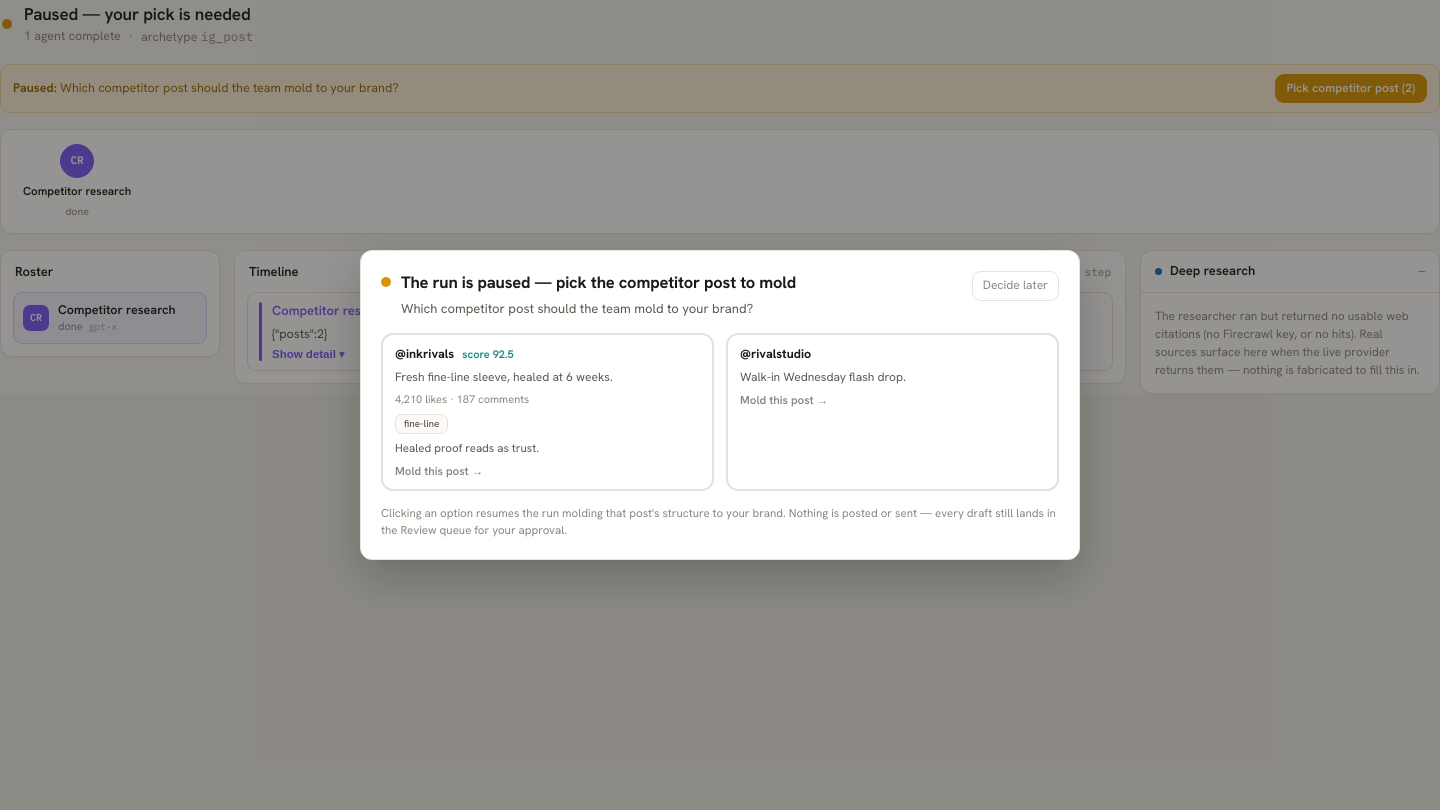
Scenario: AgencyCanvas — awaiting_selection COMPETITOR pause (competitor research) › "Decide later" hides the dialog but keeps the honest paused banner
This screenshot has width=1440, height=810.
What coordinates should you click on to do the following:
click the button "Decide later"
I would click on:
 (1015, 286)
Its box is [972,271,1059,301].
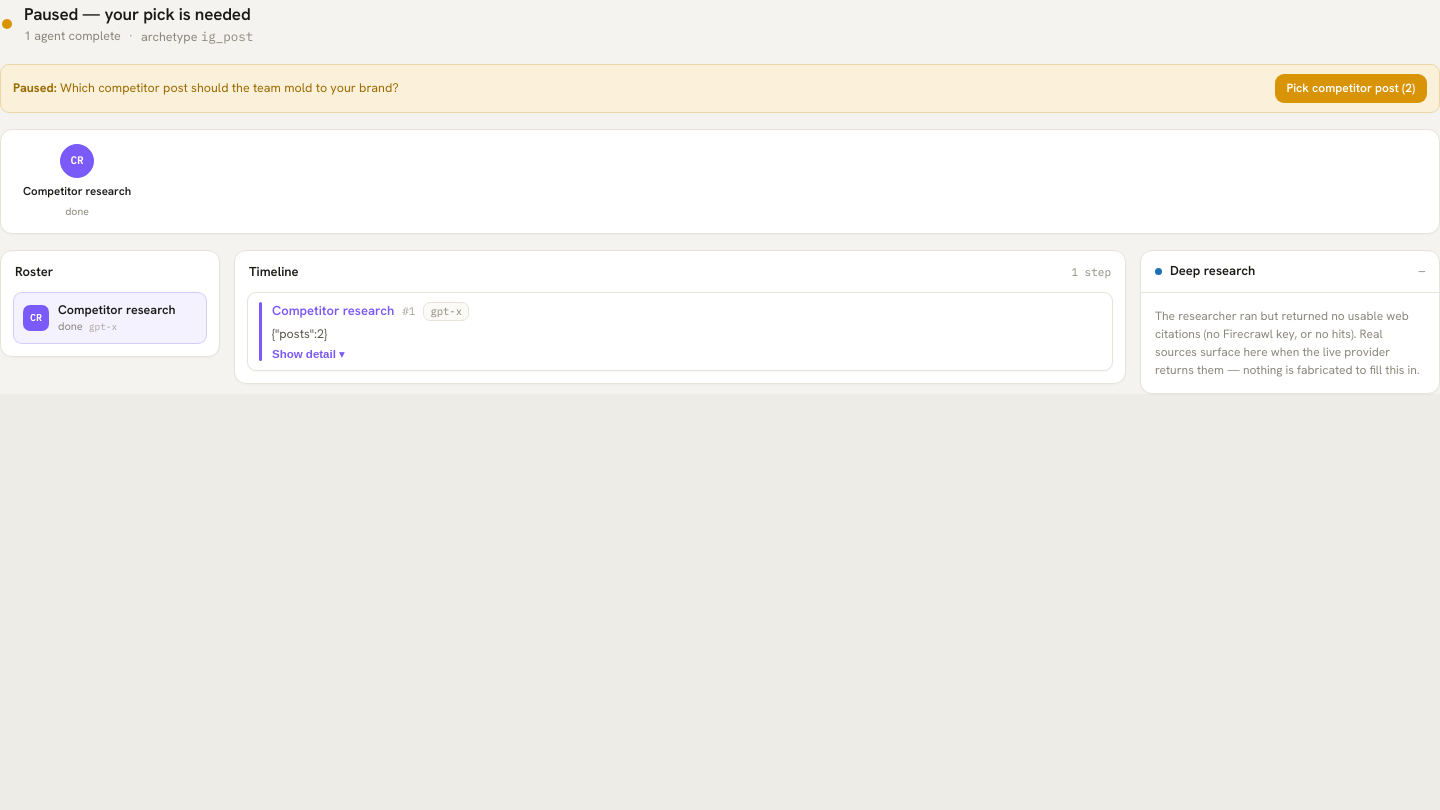
expect the button "Pick competitor post (2)" is shown: met, box [1274,74,1427,103]
expect the dialog is gone: met
